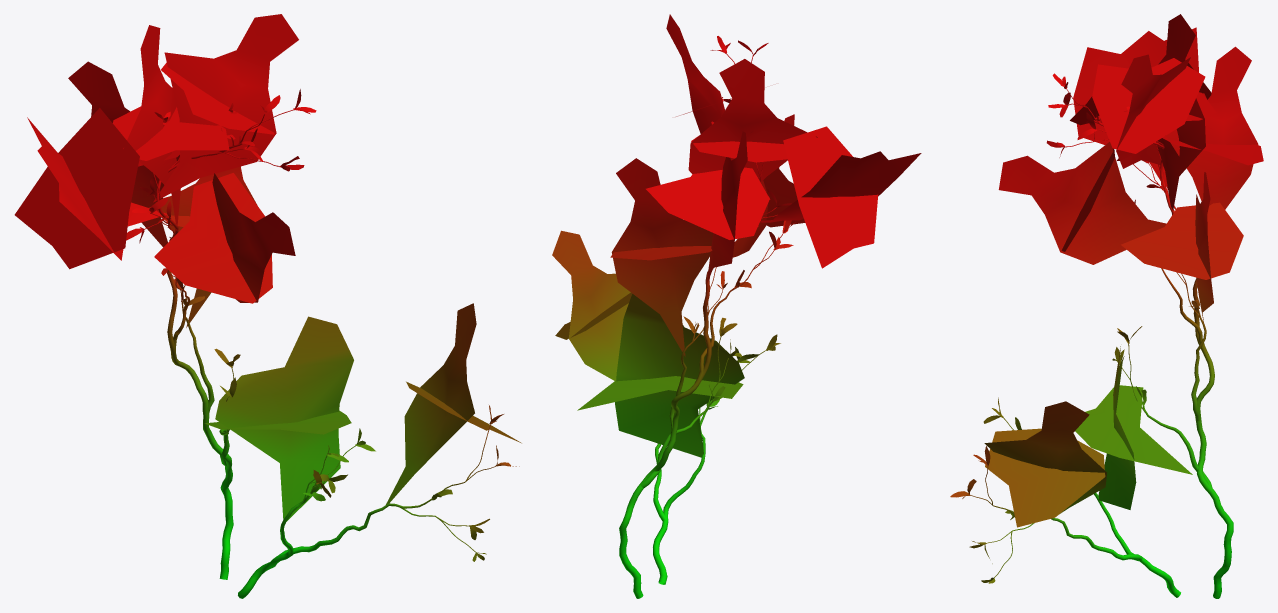
The model's file is Downy Willow_LOD3_Var7_wknlfiuqx.fbx.
3 views of the same model, side by side, from view 1: azimuth 30°, elevation 25°; view 2: azimuth 150°, elevation 25°; view 3: azimuth 270°, elevation 25° (orthographic). The views are drawn at different scales.
Parts seen in each view (by area): view 1: _xw97_Var7_LOD3; view 2: _xw97_Var7_LOD3; view 3: _xw97_Var7_LOD3.
Part boxes in pixels (x1,y1,x2,y2): _xw97_Var7_LOD3: (14,14,521,598); _xw97_Var7_LOD3: (552,14,921,598); _xw97_Var7_LOD3: (950,14,1263,598).
Bounding box in the file's own units: 117 × 158 × 82.03.
